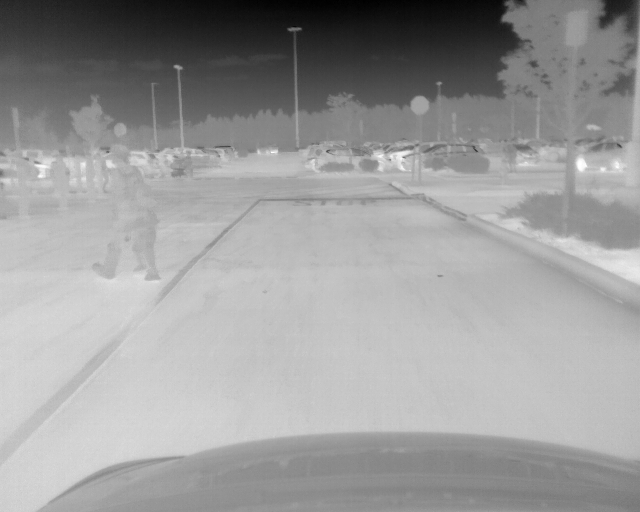car: (400, 144, 481, 172), (316, 146, 391, 174), (102, 149, 160, 180), (574, 142, 626, 172), (51, 155, 78, 212), (166, 147, 213, 166), (91, 151, 110, 192), (501, 144, 538, 164), (388, 146, 425, 165), (216, 146, 230, 164), (257, 143, 277, 154), (306, 157, 316, 171)
people: (91, 142, 139, 278), (135, 199, 160, 282), (508, 142, 517, 173)
